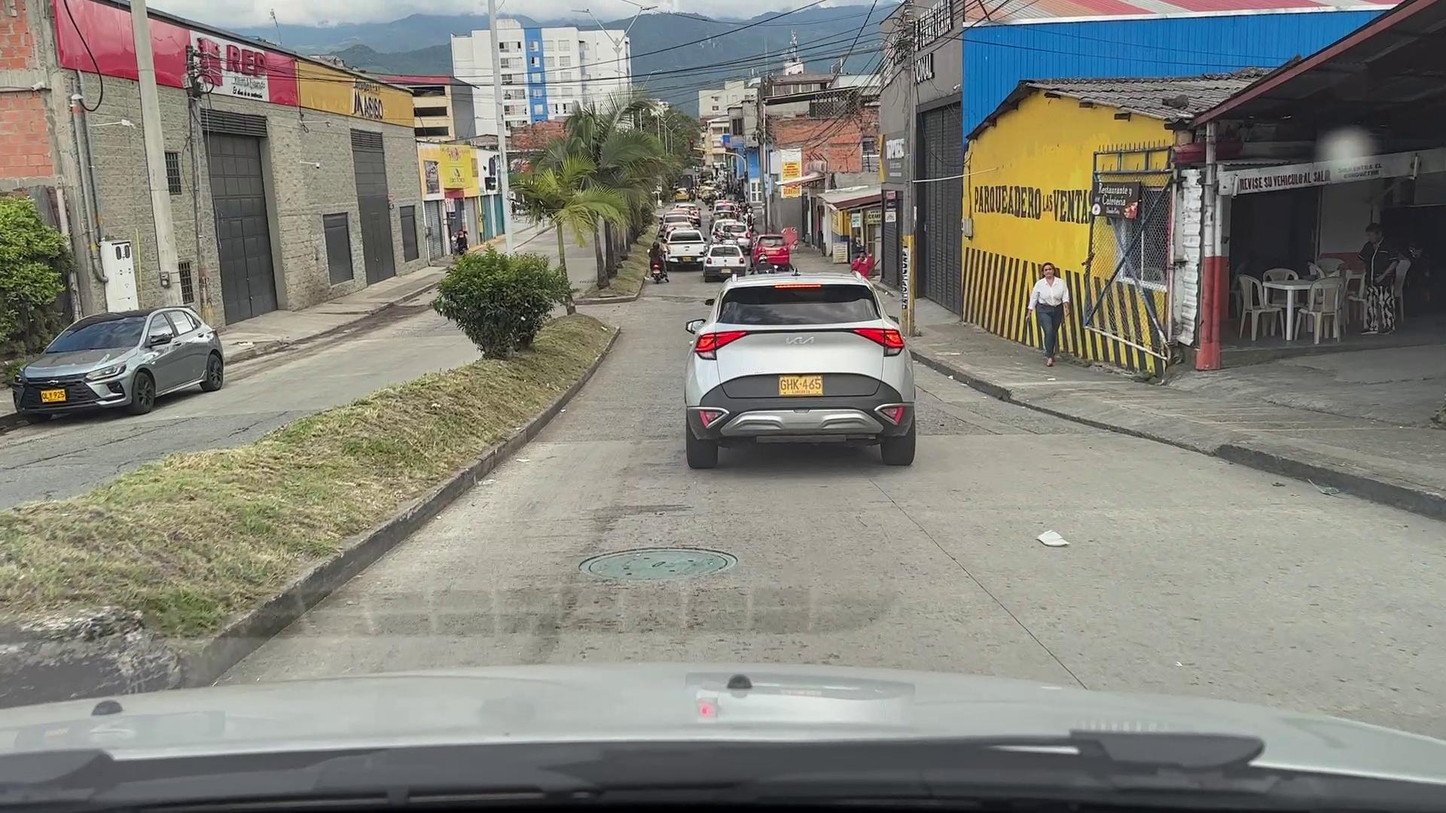registro: (579, 548, 737, 581)
